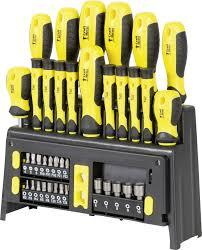screwdriver: (78, 44, 103, 136), (101, 63, 115, 138), (115, 64, 128, 139), (64, 60, 77, 133), (41, 58, 54, 129), (129, 65, 141, 141), (140, 67, 152, 142), (53, 60, 65, 133), (30, 57, 41, 128), (58, 155, 64, 166), (35, 152, 40, 165), (30, 151, 35, 164), (53, 155, 58, 167), (64, 157, 69, 167), (25, 151, 29, 163), (41, 155, 46, 164), (48, 155, 52, 166)
